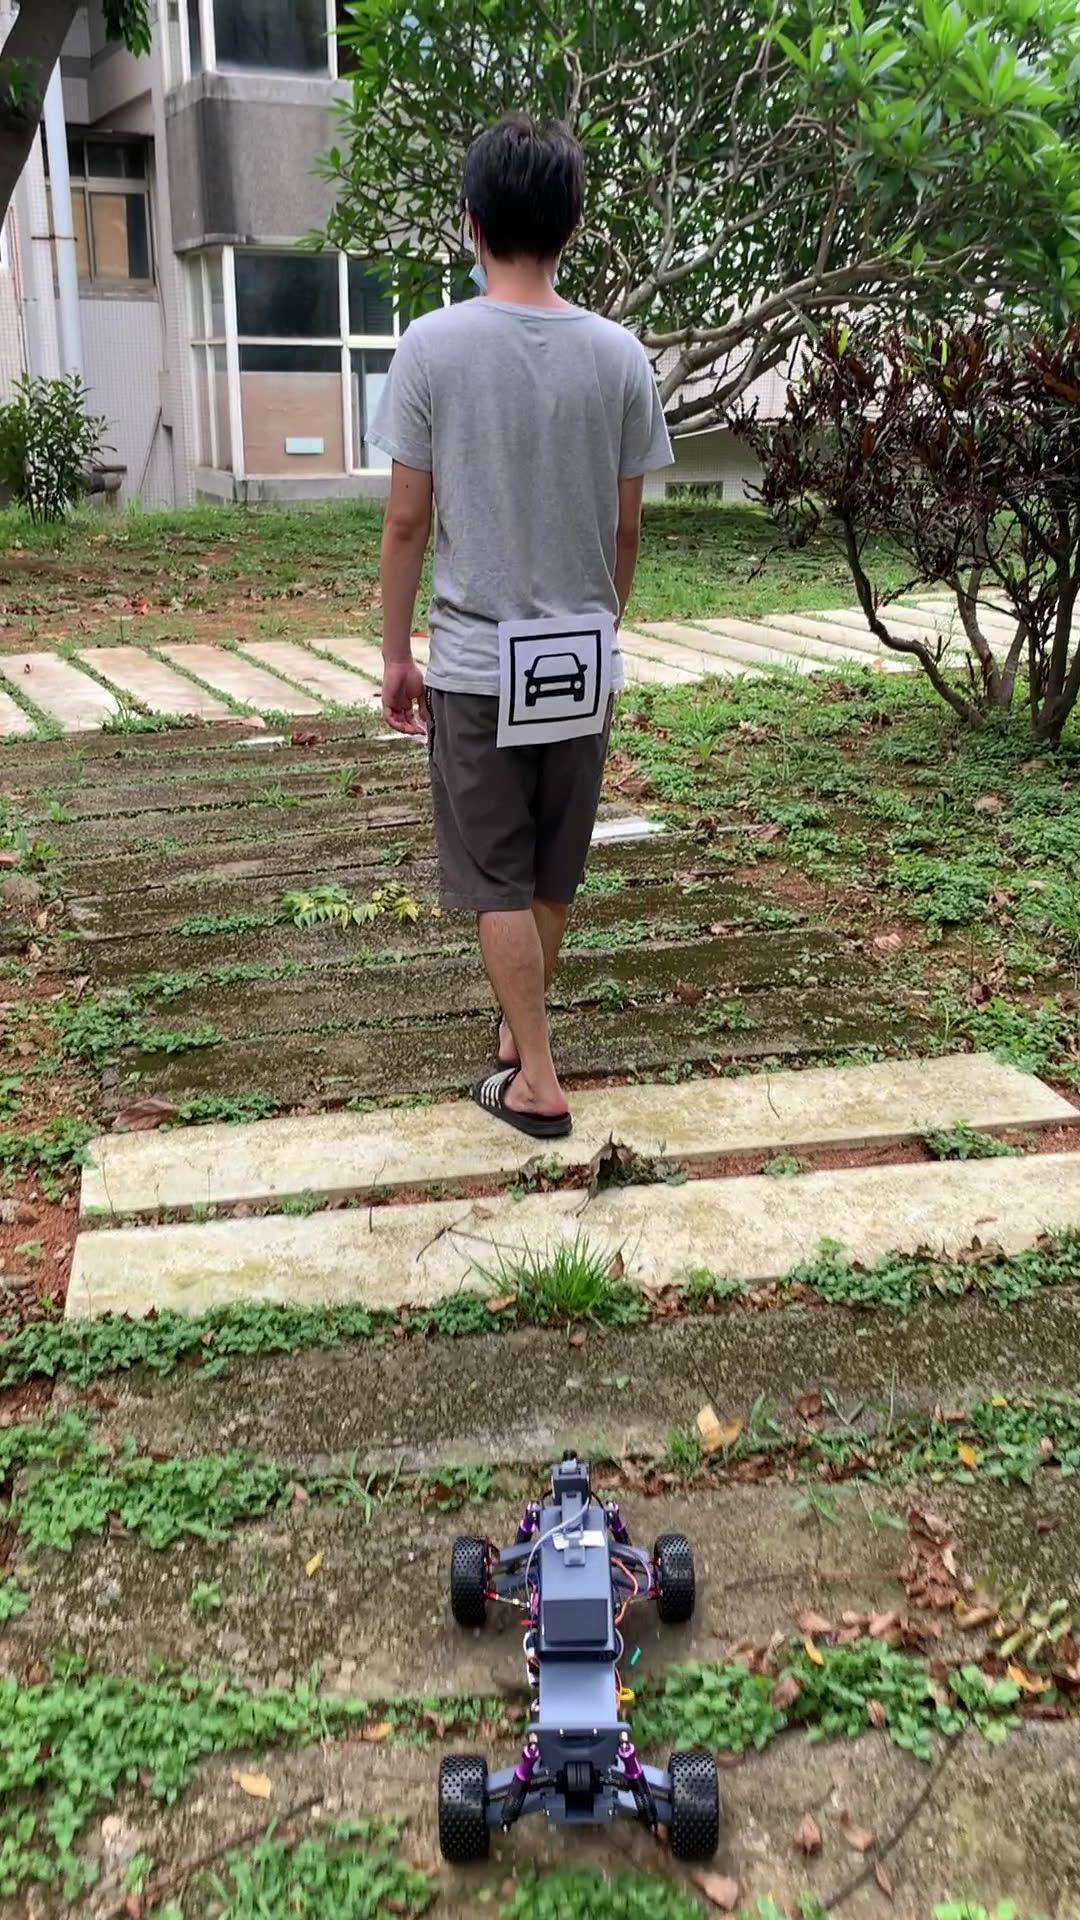car_img: (508, 628, 601, 727)
